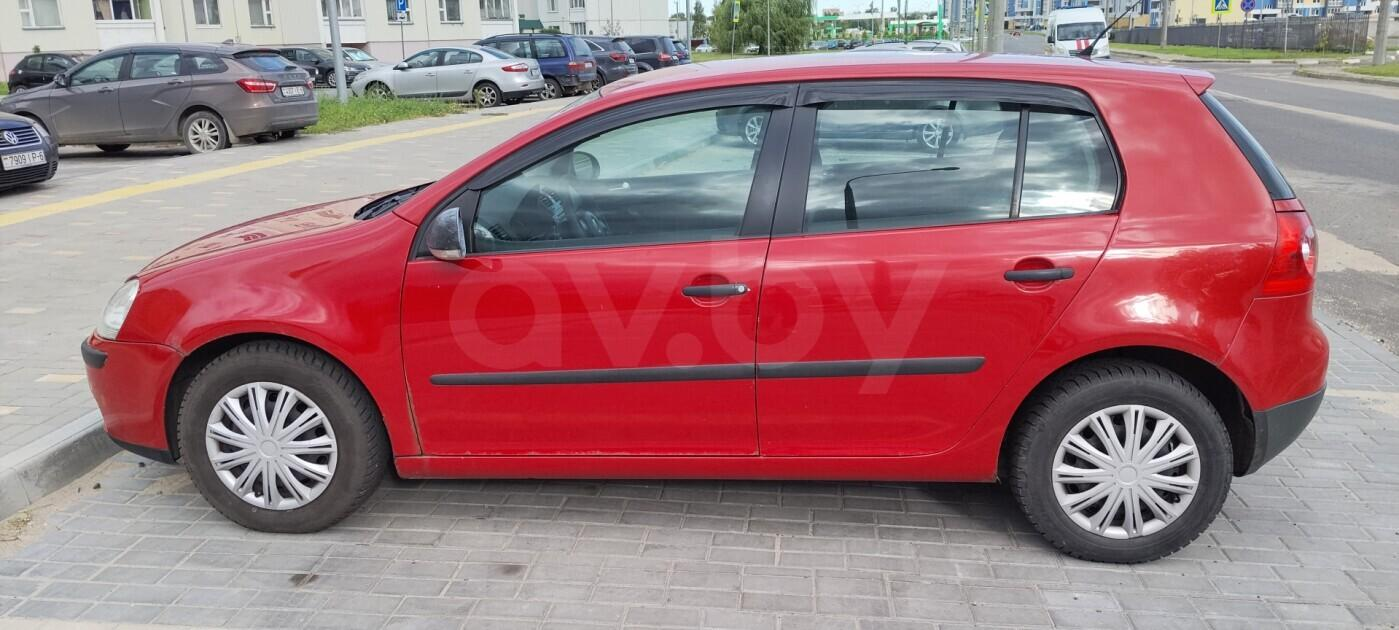Golf_2003-2009: (71, 54, 1321, 547)
